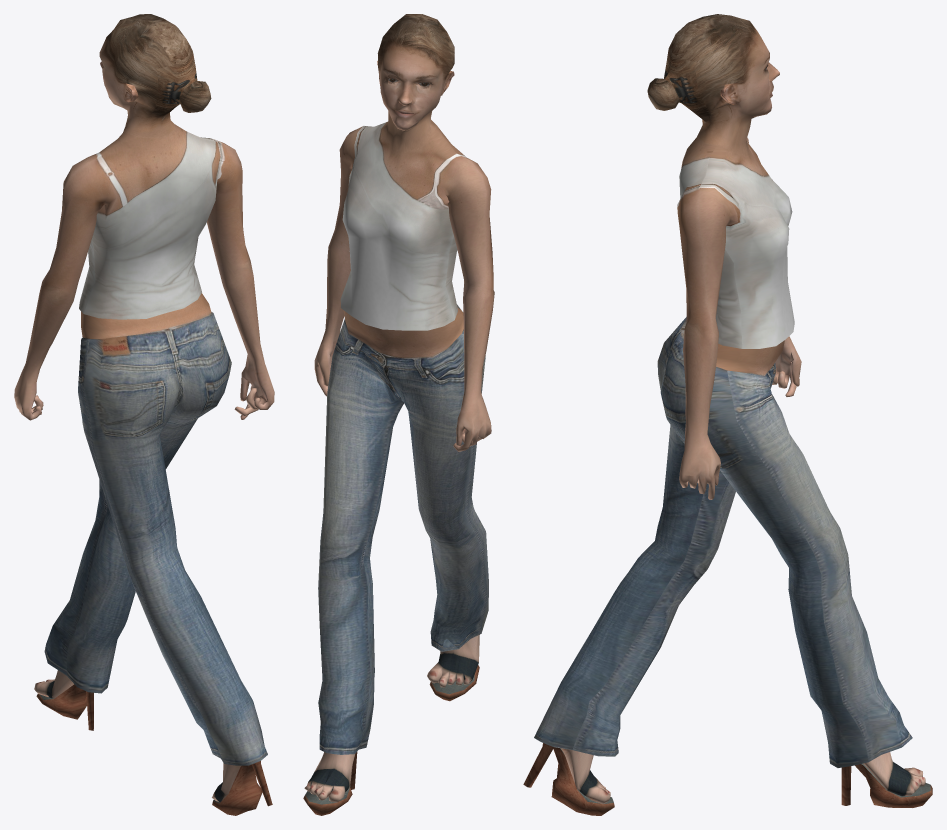
The model's file is Чел14.fbx.
3 renders of one model, left to right at view 1: azimuth 30°, elevation 25°; view 2: azimuth 150°, elevation 25°; view 3: azimuth 270°, elevation 25°, orthographic. The views are drawn at different scales.
Parts seen in each view (by area): view 1: Wom; view 2: Wom; view 3: Wom.
Part boxes in pixels (x1=…): Wom: x1=14, y1=14, x2=274, y2=815; Wom: x1=303, y1=14, x2=494, y2=815; Wom: x1=523, y1=14, x2=932, y2=815.
Bounding box in the file's own units: 514 × 1741 × 823.
